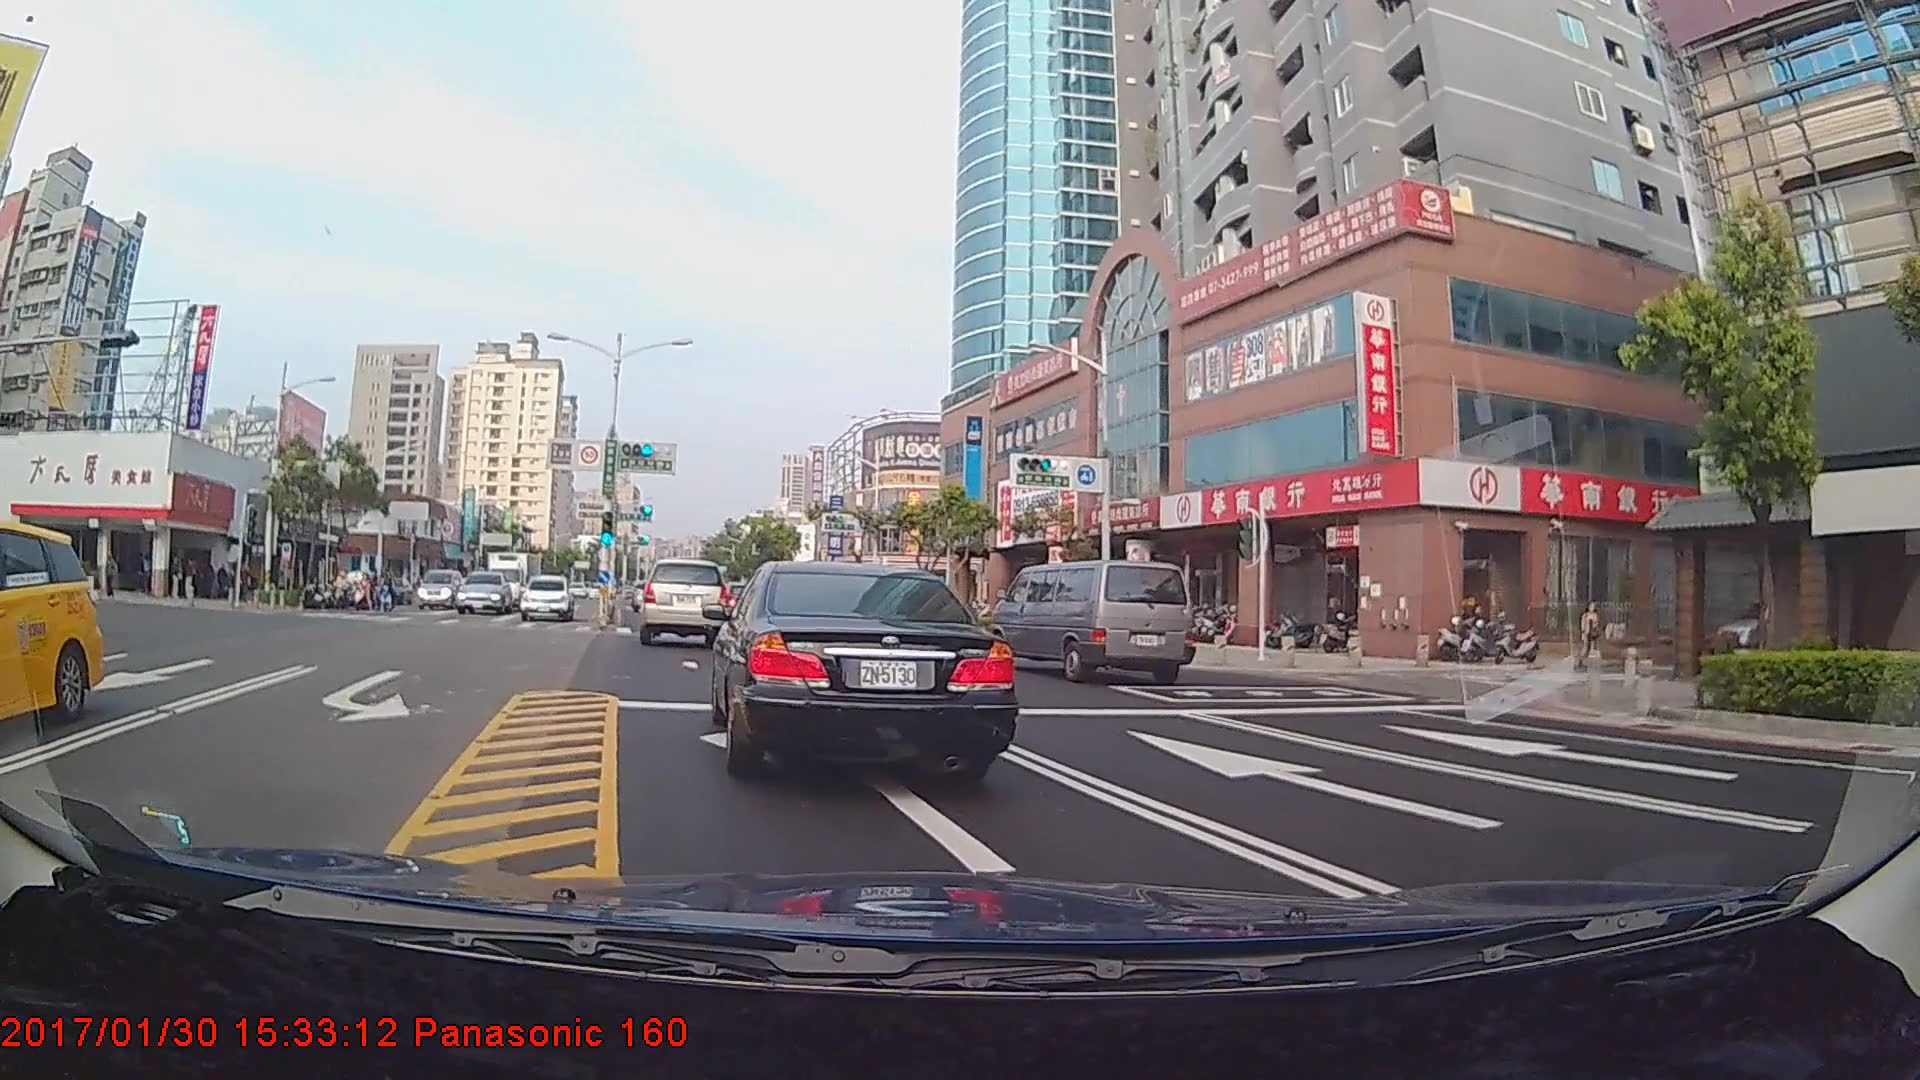pedestrian: (1581, 600, 1601, 663), (168, 552, 188, 602), (103, 552, 123, 604), (184, 556, 204, 604)
vehicle: (717, 551, 1009, 780), (991, 558, 1191, 683), (1, 516, 103, 736), (637, 556, 731, 647), (494, 546, 548, 610), (455, 571, 514, 616), (520, 574, 573, 622), (418, 567, 470, 612)
